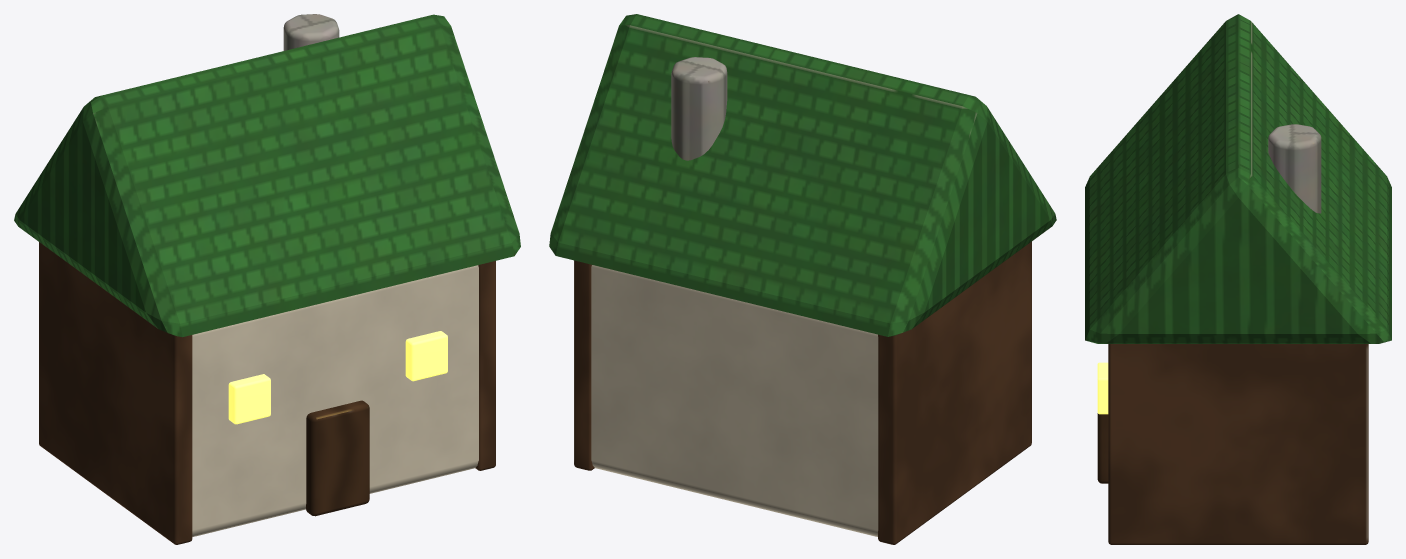
The model's file is house_green.glb.
The picture shows the model from 3 angles, left to right: view 1: azimuth 30°, elevation 25°; view 2: azimuth 150°, elevation 25°; view 3: azimuth 270°, elevation 25°; orthographic projection. The views are drawn at different scales.
Parts seen in each view (by area): view 1: house; view 2: house; view 3: house.
Boxes of the visible parts, left/top/right/bottom form: house: left=14, top=14, right=520, bottom=544; house: left=549, top=14, right=1056, bottom=544; house: left=1085, top=14, right=1391, bottom=544.
Bounding box in the file's own units: 0.5 × 0.5207 × 0.3809.
2 materials, 1 textured.
